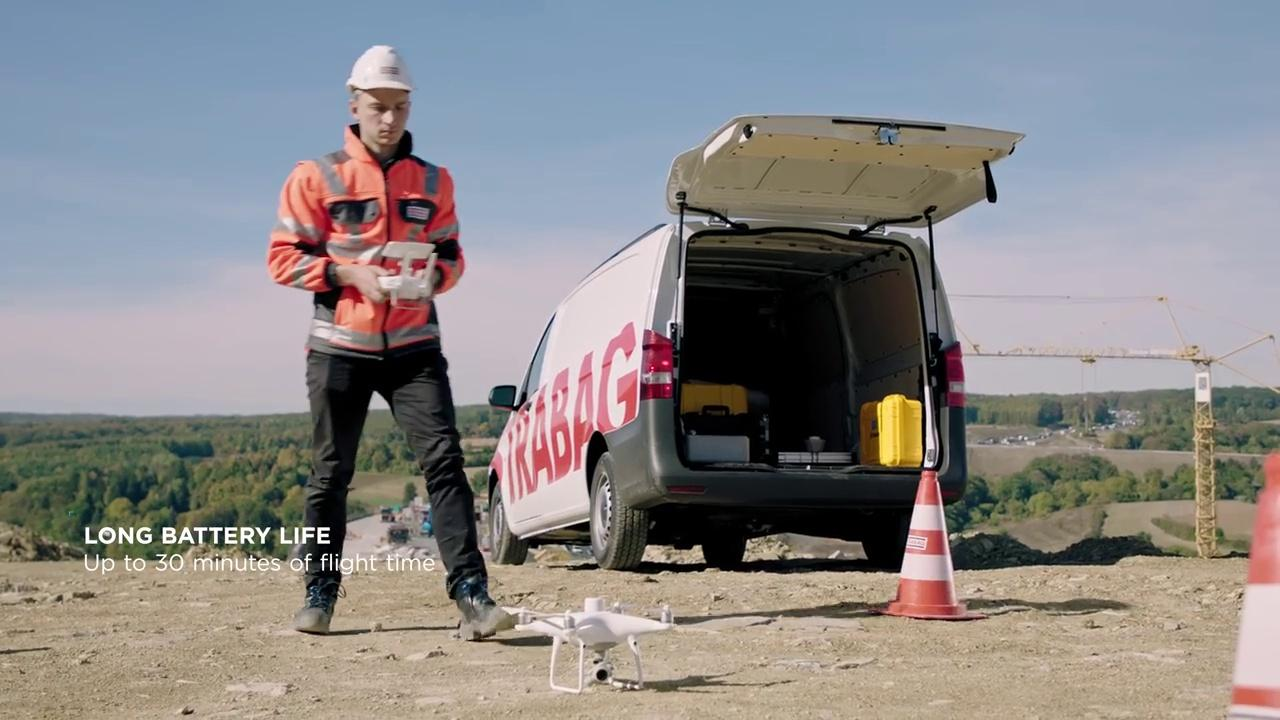drone: (501, 595, 686, 692)
